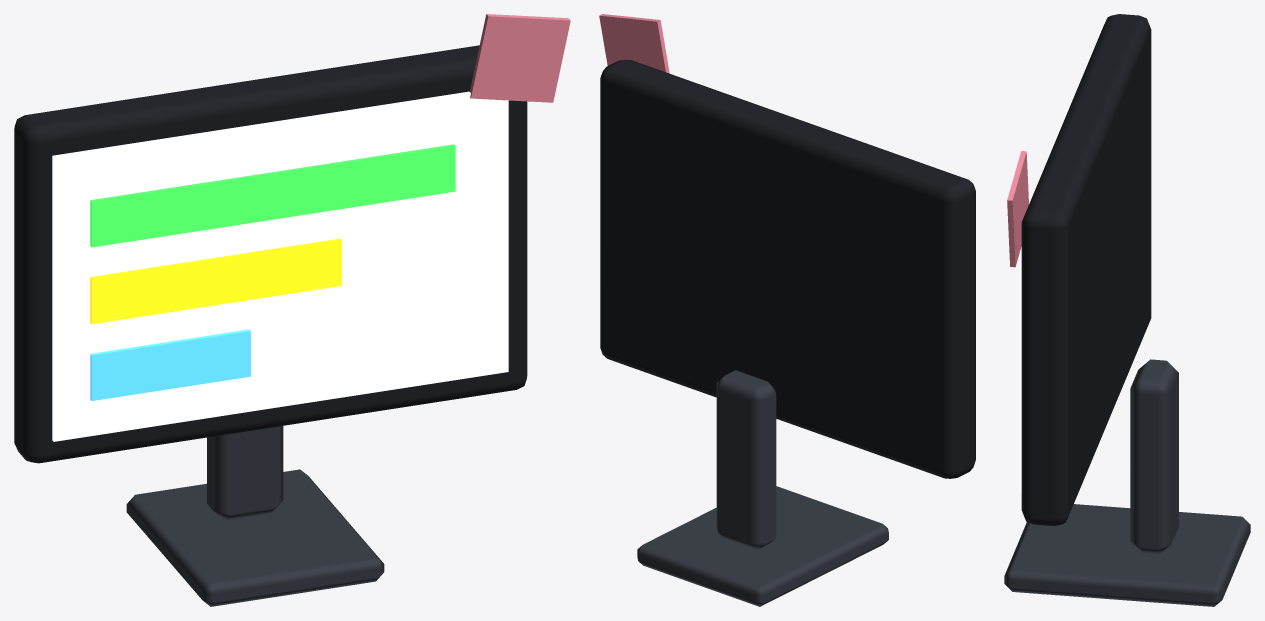
The model's file is station_transport_ausstattung_2_3.glb.
The picture shows the model from 3 angles, left to right: view 1: azimuth 30°, elevation 25°; view 2: azimuth 150°, elevation 25°; view 3: azimuth 270°, elevation 25°; orthographic projection. The views are drawn at different scales.
Parts seen in each view (by area): view 1: station_transport_ausstattung_2_3; view 2: station_transport_ausstattung_2_3; view 3: station_transport_ausstattung_2_3.
Boxes of the visible parts, x1=… form: station_transport_ausstattung_2_3: x1=14, y1=14, x2=570, y2=606; station_transport_ausstattung_2_3: x1=599, y1=14, x2=975, y2=606; station_transport_ausstattung_2_3: x1=1004, y1=14, x2=1250, y2=606.
Size of the model in its own units: 0.3779 by 0.3936 by 0.178.
